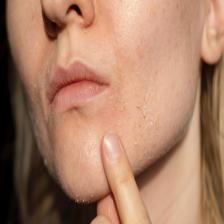Dry: (10, 0, 204, 199)
